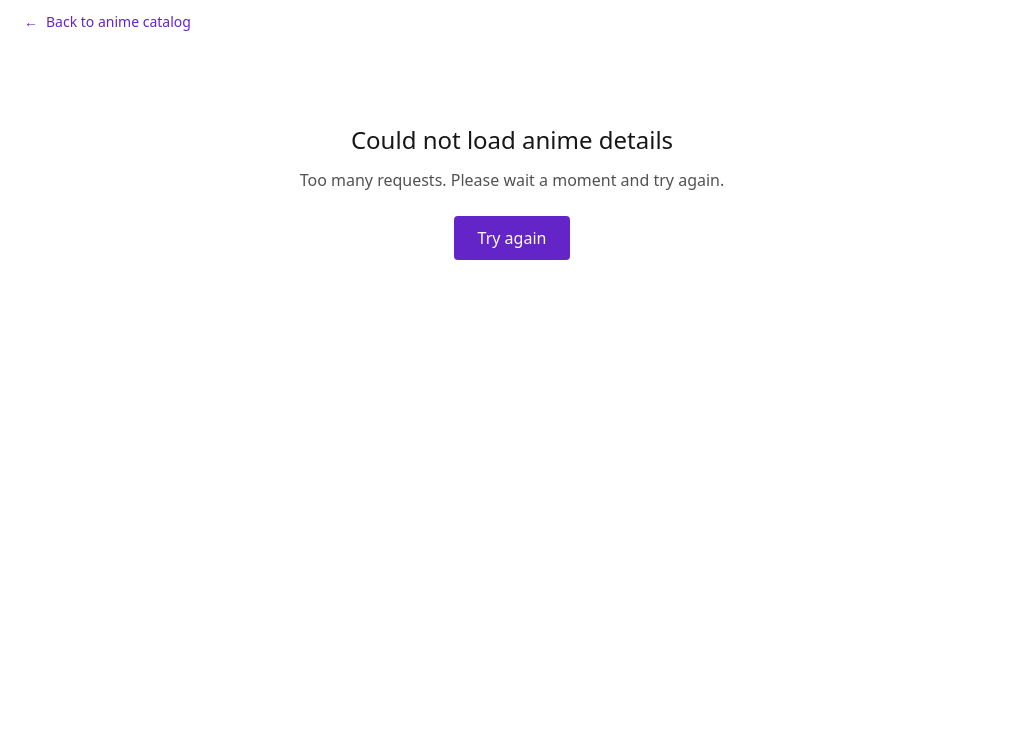
Test: recovers from a rate-limit error
Check: the message shows "Too many requests", box [300,169,724,191]
Step 1. Click the button "Try again" → (512, 238), box [454,216,570,260]
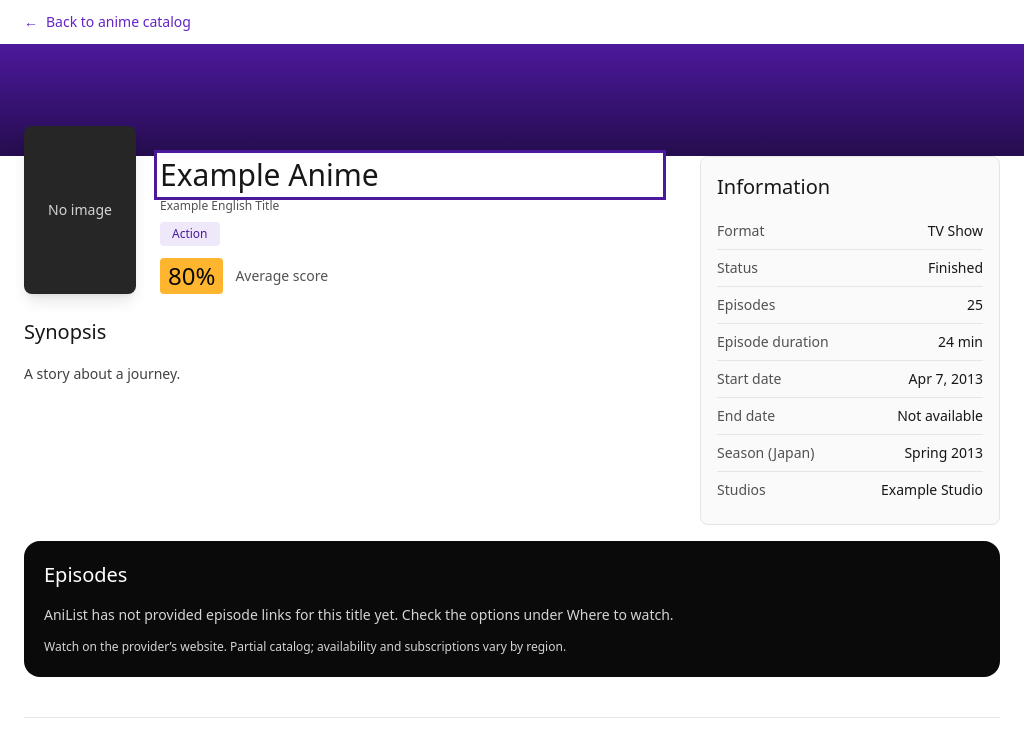
Check: the heading "Example Anime" is shown, box [160,156,660,194]
